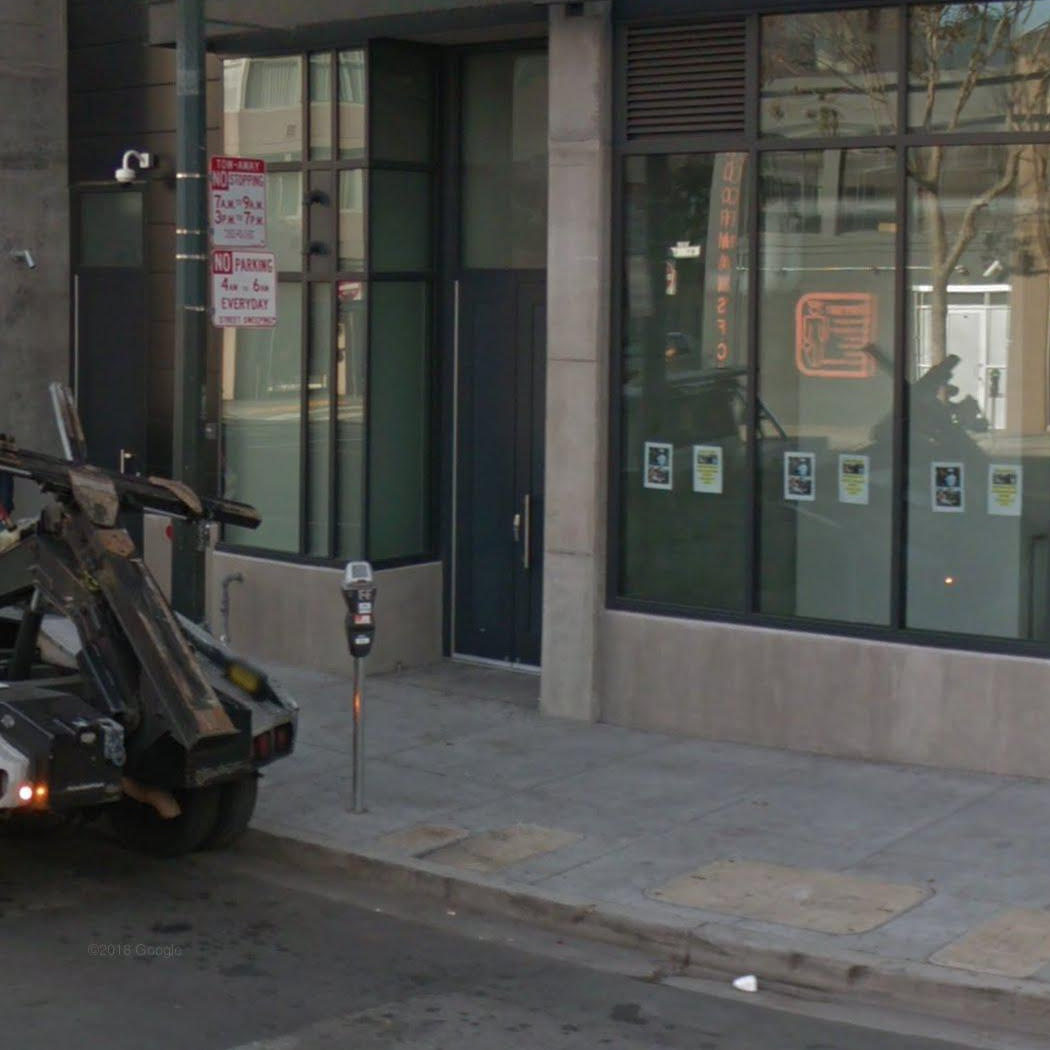No Parking: (202, 152, 270, 249), (207, 249, 280, 326)
